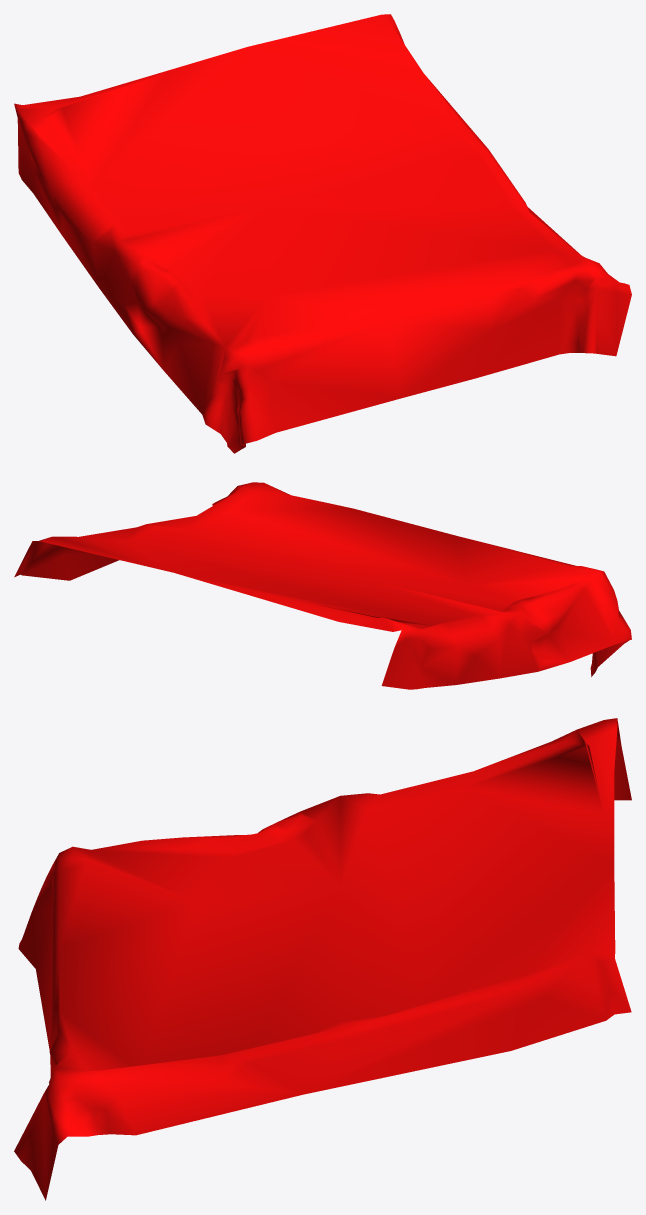
File: 3D_Awning01.fbx
3 renders of one model, top to bottom at view 1: azimuth 30°, elevation 25°; view 2: azimuth 150°, elevation 25°; view 3: azimuth 270°, elevation 25°, orthographic. The views are drawn at different scales.
Visible parts, largest first — view 1: Plane010; view 2: Plane010; view 3: Plane010.
Boxes of the visible parts, box(x1,y1,x2,y2) form: Plane010: box(14, 14, 631, 453); Plane010: box(14, 482, 631, 689); Plane010: box(14, 718, 631, 1200).
Bounding box in the file's own units: 372 × 170 × 360.
